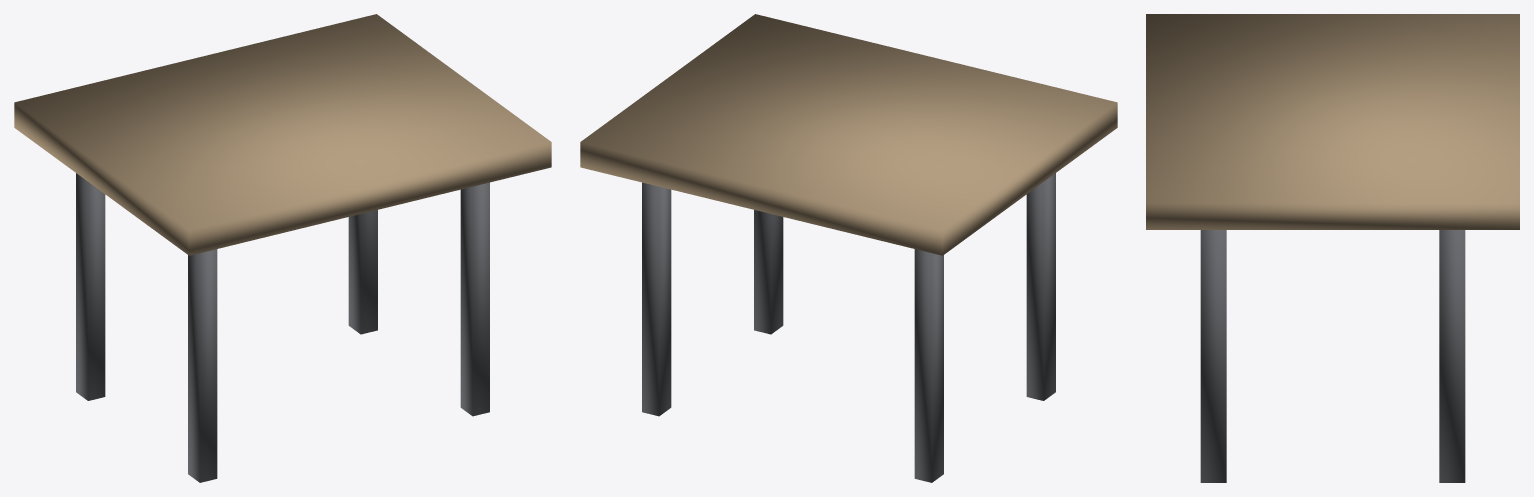
Rendered from diner_four_top__deep.glb.
3 renders of one model, left to right at view 1: azimuth 30°, elevation 25°; view 2: azimuth 150°, elevation 25°; view 3: azimuth 270°, elevation 25°, orthographic. The views are drawn at different scales.
Visible parts, largest first — view 1: world; view 2: world; view 3: world.
Boxes of the visible parts, x1,y1,x2,y2 form: world: (14,14,551,482); world: (580,14,1117,482); world: (1146,14,1519,482).
Size of the model in its own units: 1.05 by 0.775 by 0.8784.
